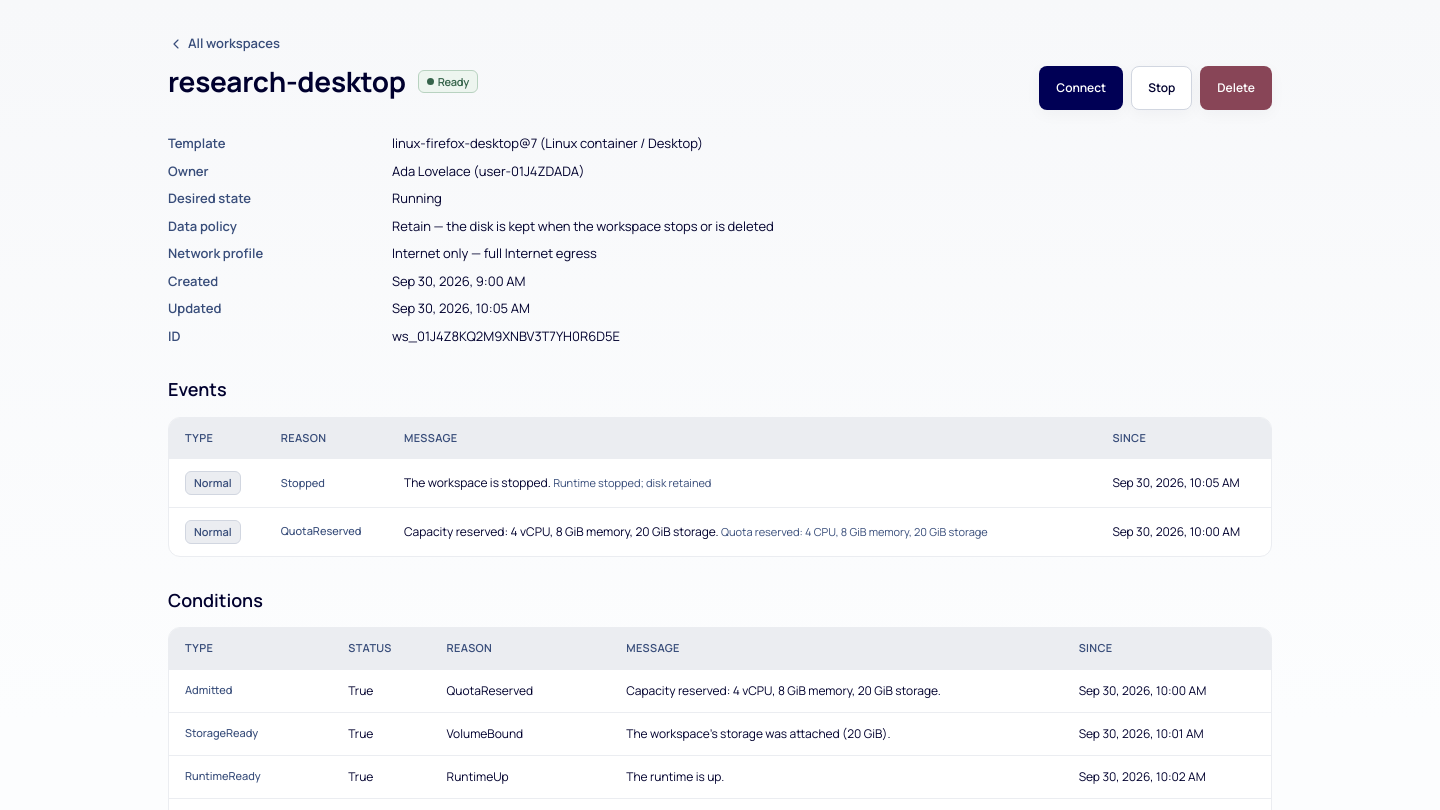
Test case: WorkspaceDetailPage delete flow (V3.27) › delete: confirm names the retain consequence
The width and height of the screenshot is (1440, 810).
Click the button "Delete" at (1236, 88), box [1200, 66, 1272, 110]
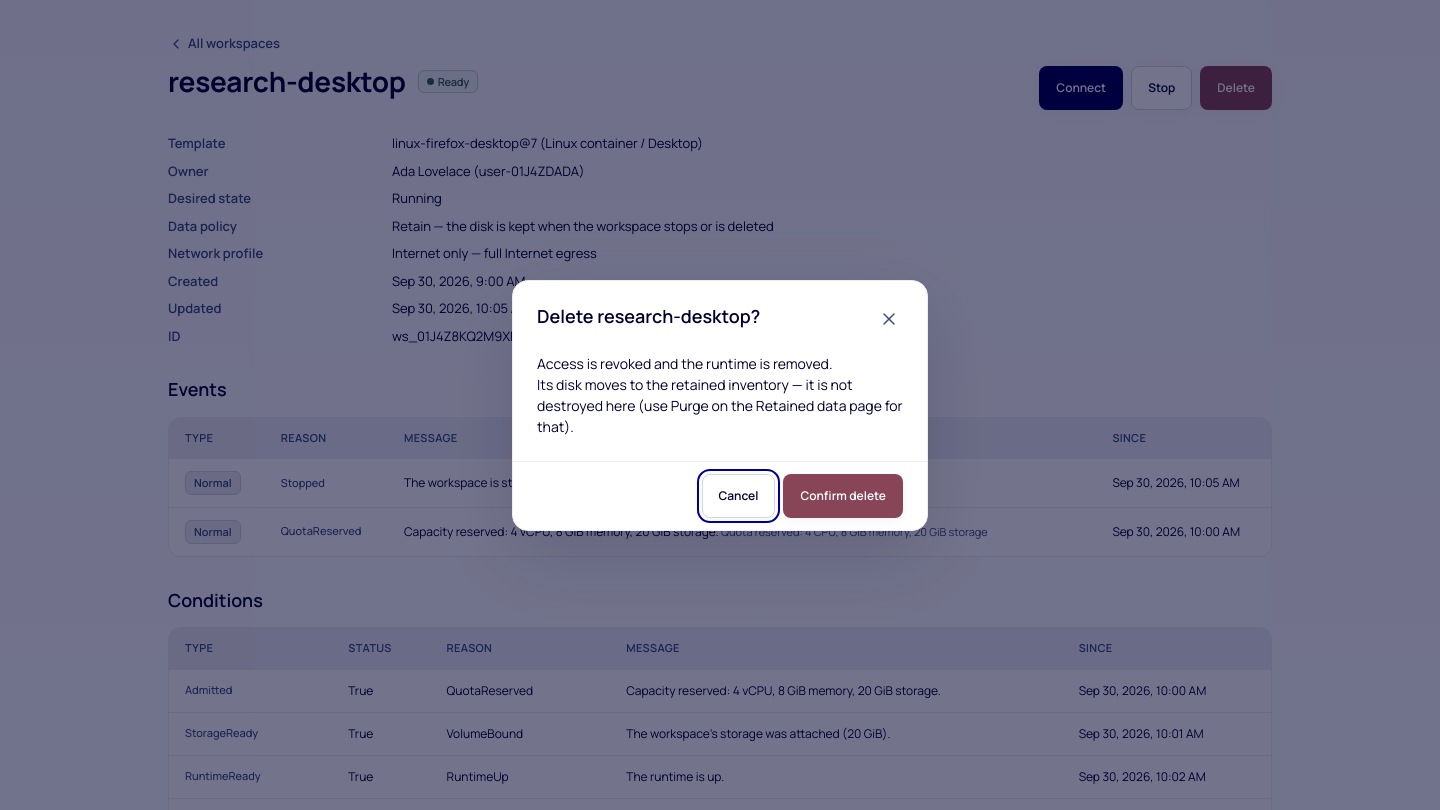
Expected: the dialog shows "moves to the retained inventory", [537, 374, 903, 436]
Expected: the dialog shows "research-desktop", [537, 304, 760, 328]
Expected: the text "Access is revoked and the runtime is removed." is shown, [537, 354, 832, 372]
